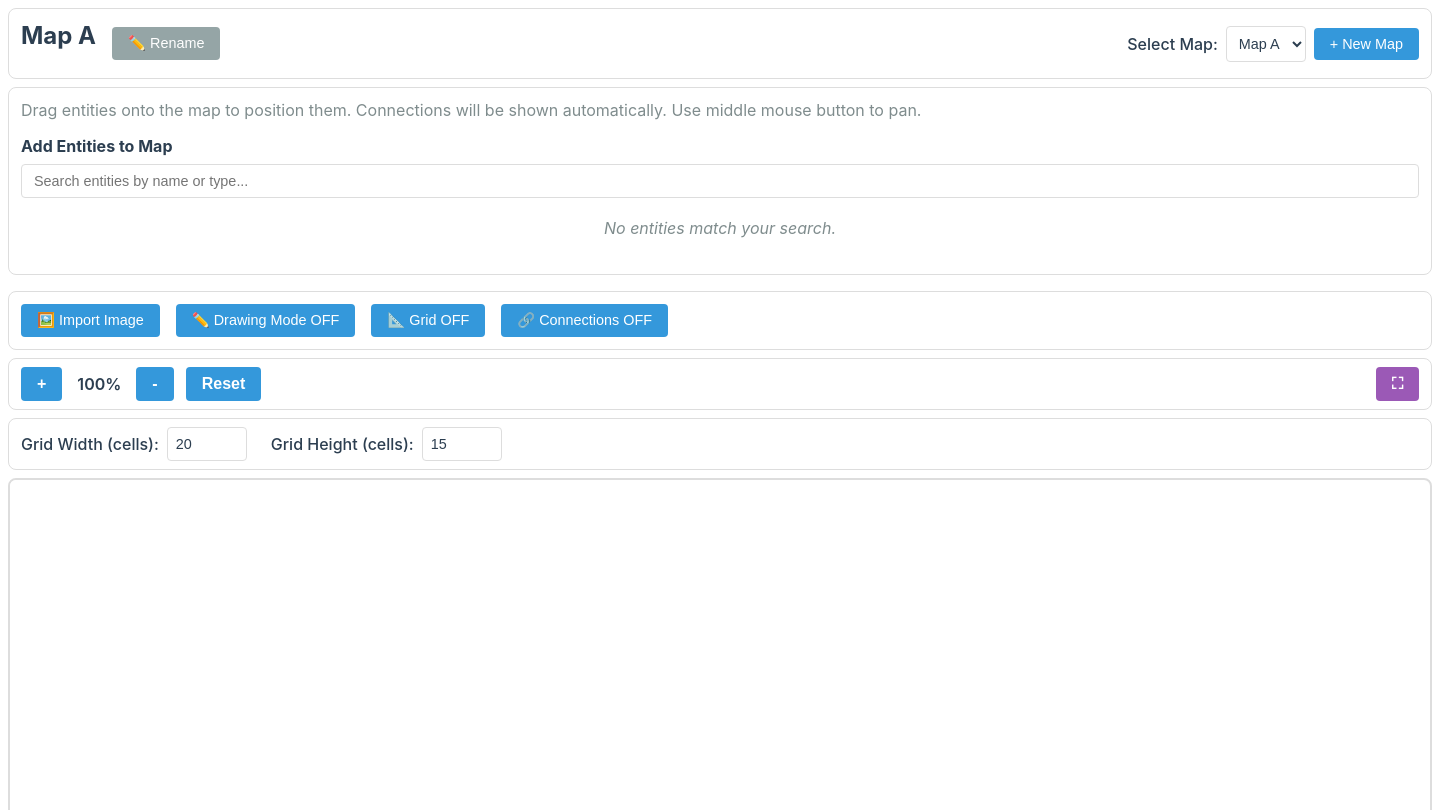
Test case: MapEditor Map Name Coherence › should reset edit state when canceling rename
Note: Click Rename
Click the button "✏️ Rename" at point(166, 44), box [112,27,220,60]
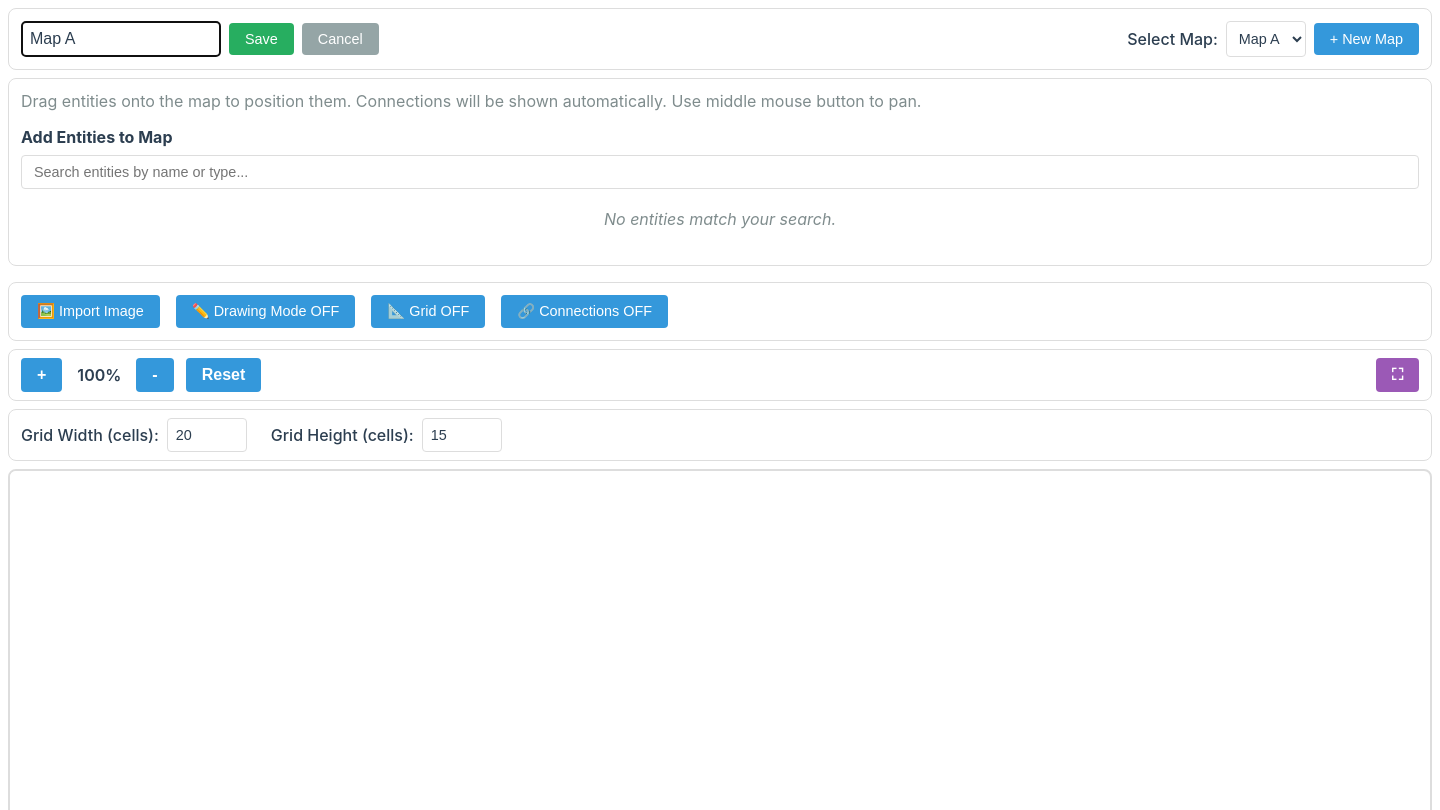
Note: Change the value
Replace the text in the 1st field with "Modified Name" at point(121, 39), box [21,21,221,57]
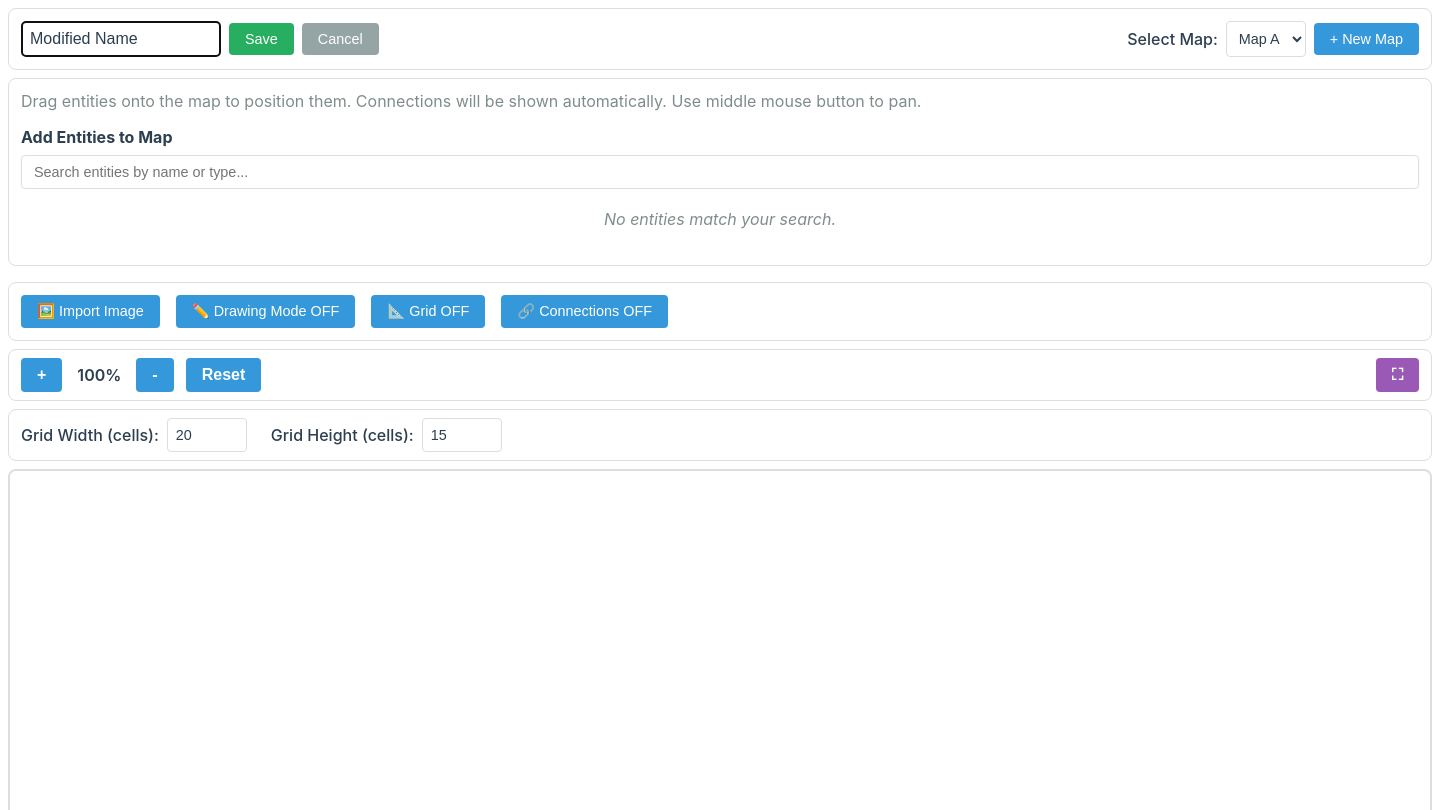
Note: Click Cancel
Click the button "Cancel" at point(340, 39), box [302,23,379,55]
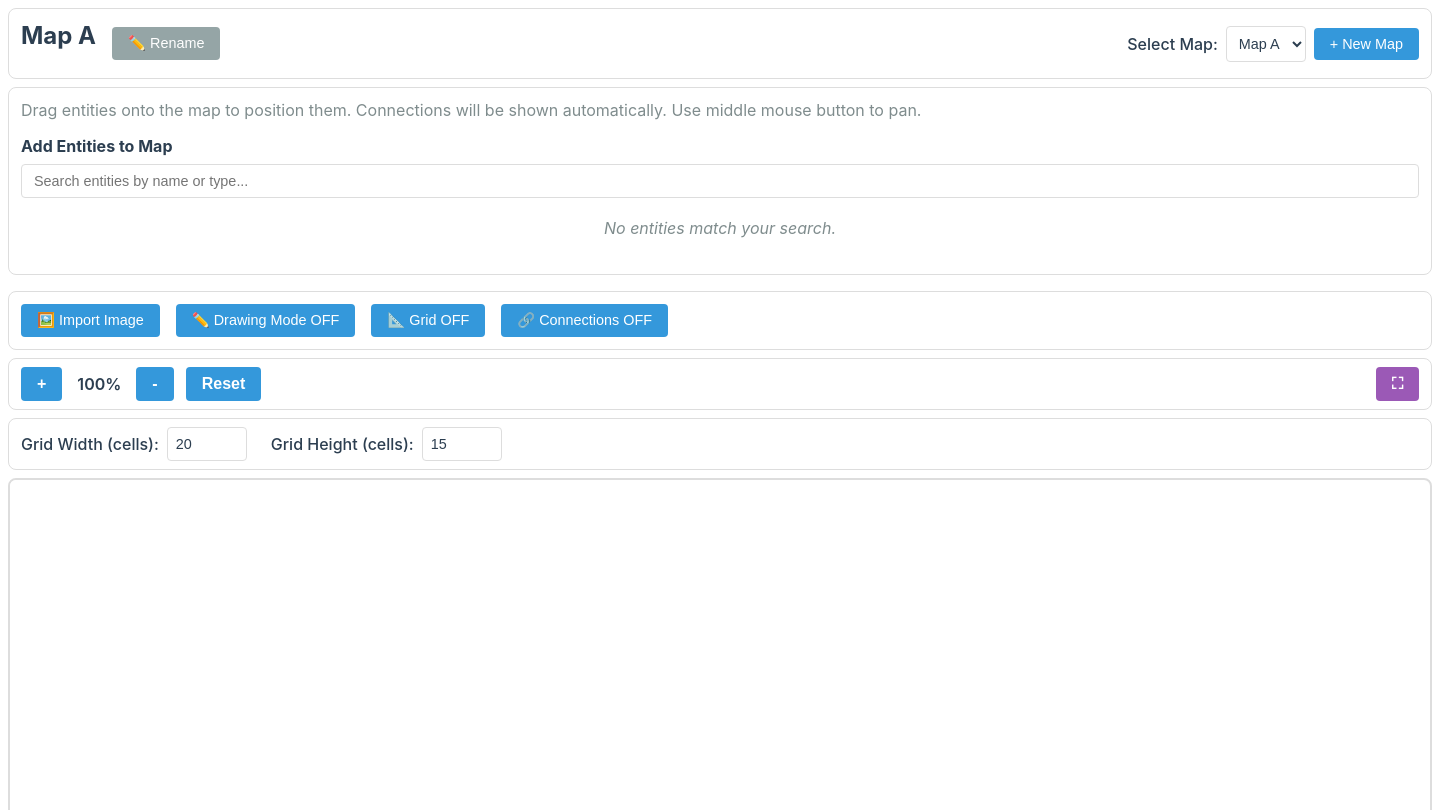
Expected: the element with class "map-rename-form" is gone
Note: Click Rename again
Click the button "✏️ Rename" at point(166, 44), box [112,27,220,60]
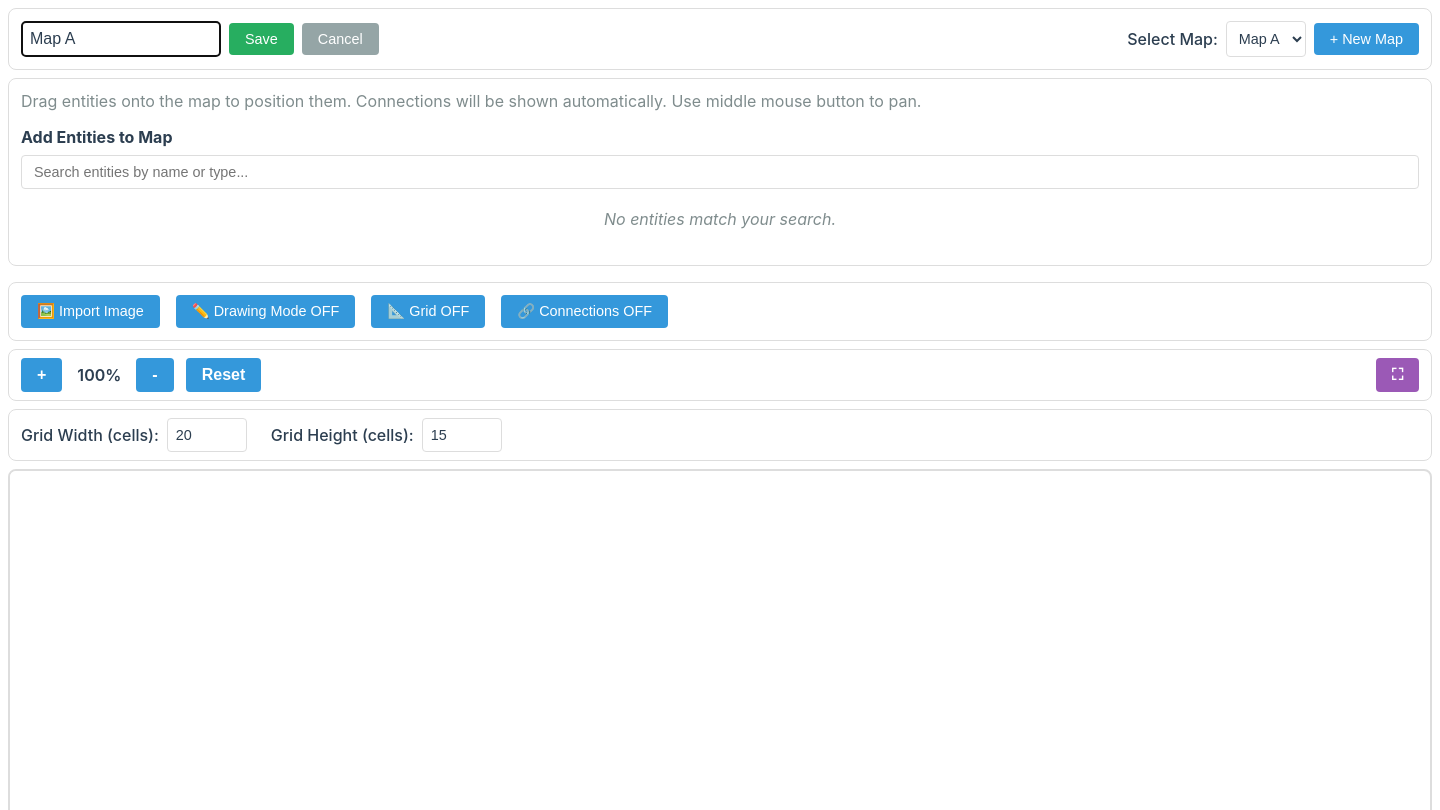
Expected: the 1st field holds "Map A", [21,21,221,57]
